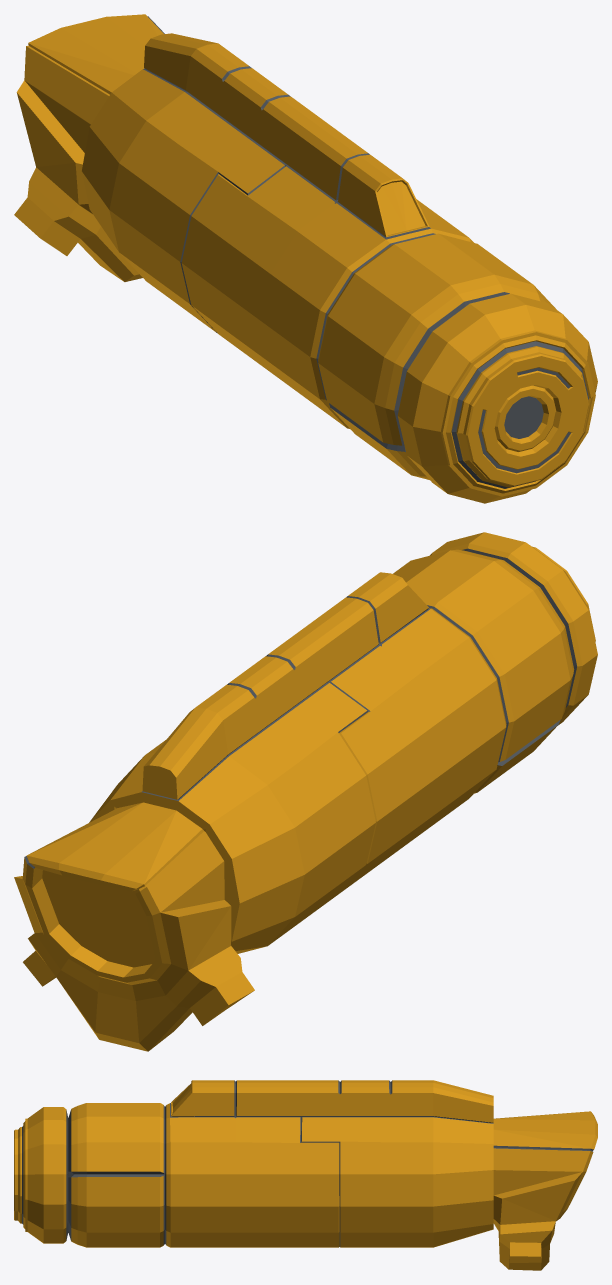
The model's file is Personal_Vehicle_03_Body_Yellow.fbx.
The picture shows the model from 3 angles, top to bottom: view 1: azimuth 30°, elevation 25°; view 2: azimuth 150°, elevation 25°; view 3: azimuth 270°, elevation 25°; orthographic projection. The views are drawn at different scales.
Visible parts, largest first — view 1: Personal_Vehicle_03_Body_Yellow; view 2: Personal_Vehicle_03_Body_Yellow; view 3: Personal_Vehicle_03_Body_Yellow.
Boxes of the visible parts, x1,y1,x2,y2 form: Personal_Vehicle_03_Body_Yellow: (14, 14, 597, 503); Personal_Vehicle_03_Body_Yellow: (14, 532, 597, 1051); Personal_Vehicle_03_Body_Yellow: (14, 1080, 597, 1270).
Bounding box in the file's own units: 78.2 × 98.69 × 290.
Materials: 2 (2 with a texture image).
